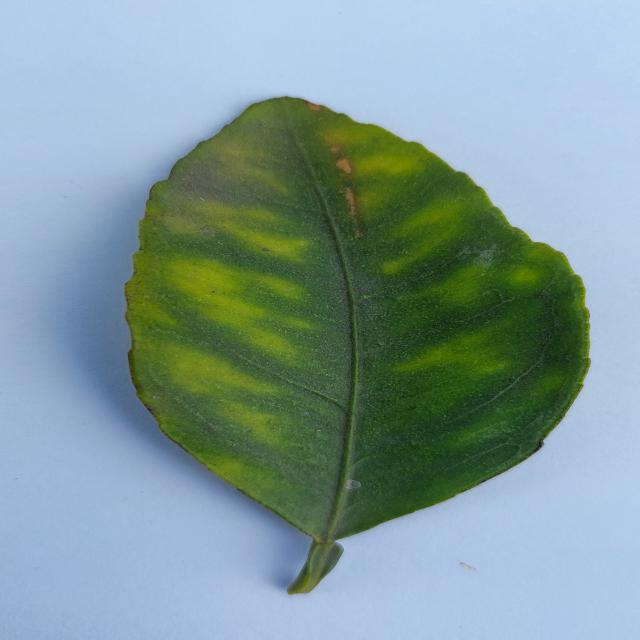greening: (127, 97, 587, 593)
